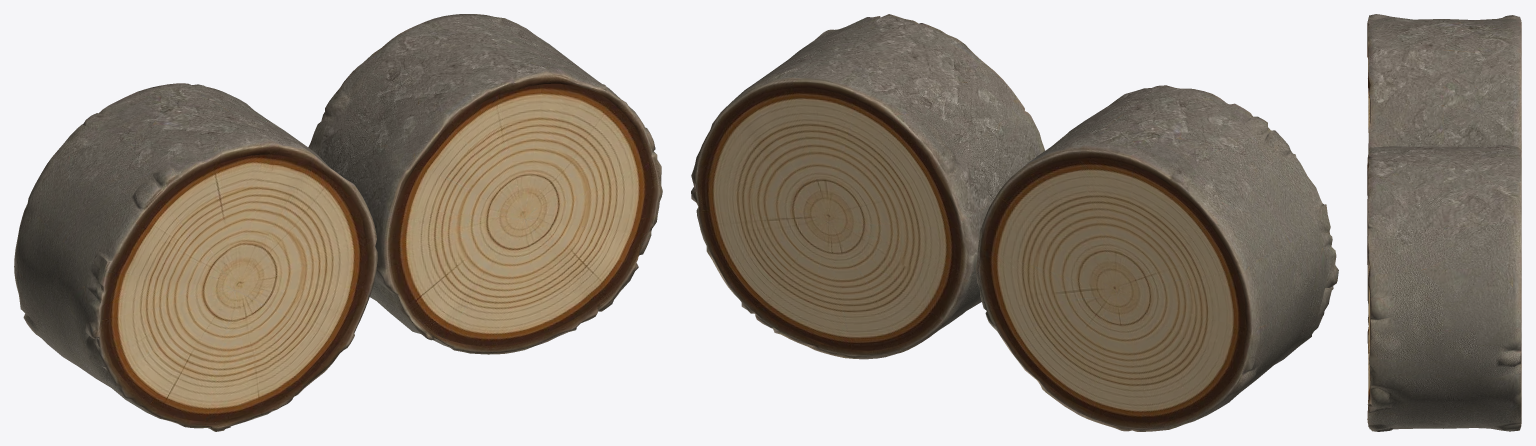
Rendered from split_log_halves.glb.
3 views of the same model, side by side, from view 1: azimuth 30°, elevation 25°; view 2: azimuth 150°, elevation 25°; view 3: azimuth 270°, elevation 25° (orthographic). The views are drawn at different scales.
Size of the model in its own units: 0.9502 by 0.4487 by 0.2418.
1 material, 1 textured.
